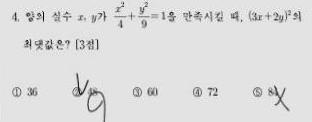choice: (69, 77, 86, 98)
not-choice: (10, 86, 23, 98), (190, 86, 203, 98), (131, 86, 143, 98), (251, 86, 263, 98)
